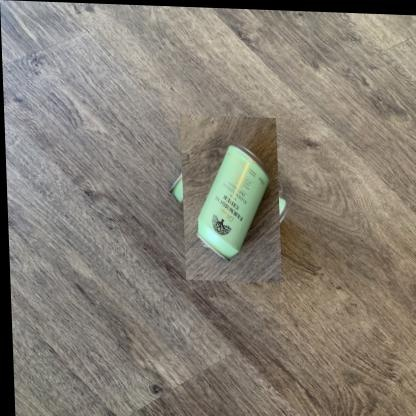trash: (197, 145, 268, 258)
